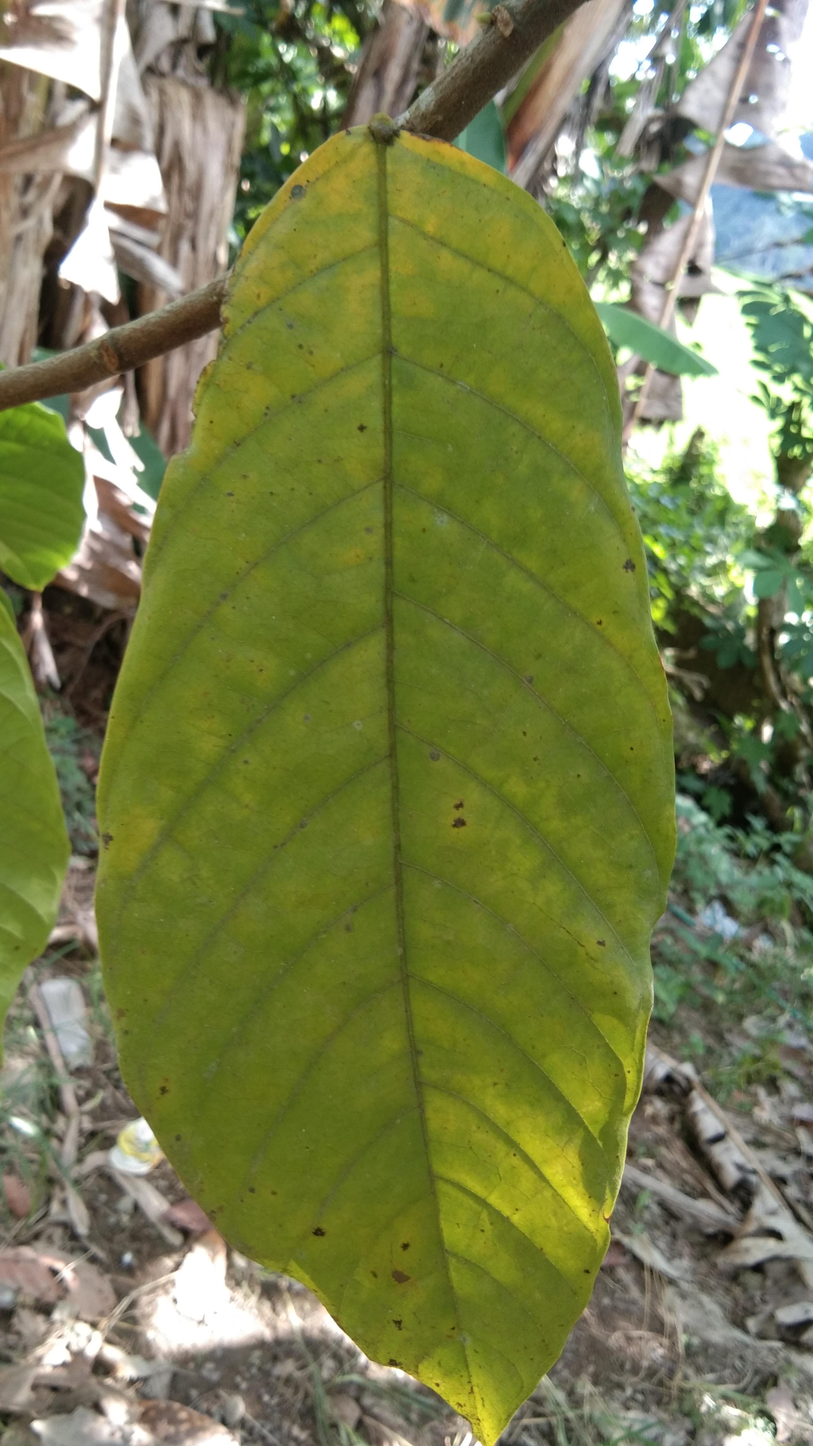deficiencia_potasio: (83, 115, 671, 1446)
